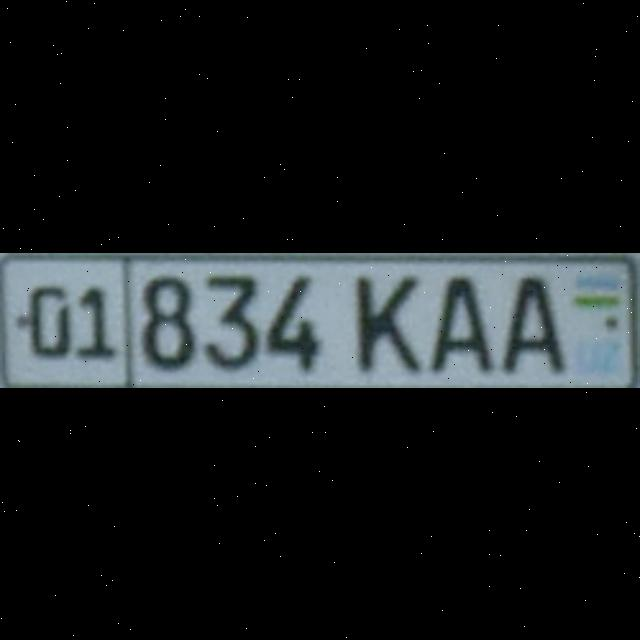0: (25, 280, 69, 354)
1: (72, 280, 112, 354)
3: (202, 270, 252, 364)
4: (264, 272, 314, 368)
8: (138, 273, 190, 365)
A: (499, 272, 563, 370), (428, 272, 488, 368)
K: (354, 272, 414, 368)
